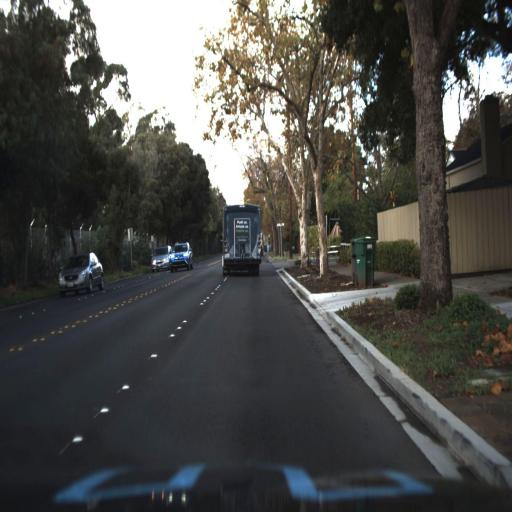car: (58, 252, 106, 302), (165, 240, 194, 273), (147, 242, 174, 273), (170, 240, 193, 270)
truck: (218, 200, 263, 282)
